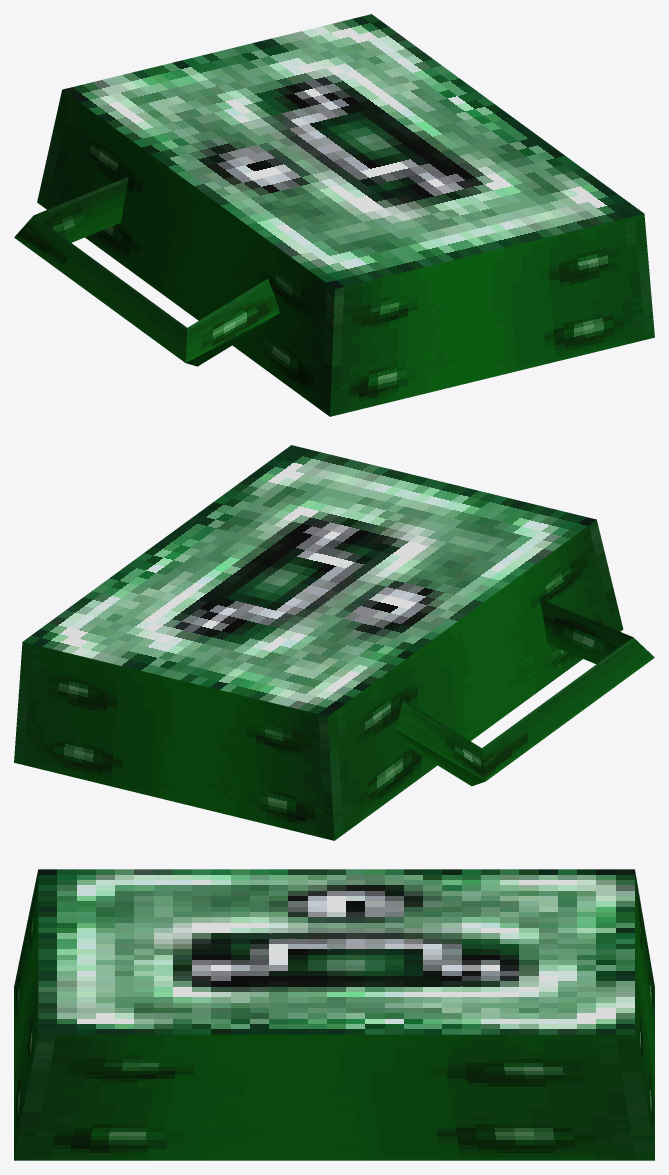
Rendered from handkassa_2734.glb.
3 views of the same model, one above another, from view 1: azimuth 30°, elevation 25°; view 2: azimuth 150°, elevation 25°; view 3: azimuth 270°, elevation 25° (orthographic). The views are drawn at different scales.
Parts seen in each view (by area): view 1: pPlaneShape7, pPlaneShape3, pPlaneShape6, pCylinderShape5; view 2: pPlaneShape7, pPlaneShape2, pPlaneShape6, pCylinderShape5; view 3: pPlaneShape7, pPlaneShape5, pPlaneShape3, pPlaneShape2.
Part boxes in pixels (<box>): pPlaneShape7: <box>62,14,643,288</box>; pPlaneShape3: <box>330,214,654,416</box>; pPlaneShape6: <box>37,90,334,416</box>; pCylinderShape5: <box>14,177,279,366</box>; pPlaneShape7: <box>23,445,596,716</box>; pPlaneShape2: <box>14,642,334,840</box>; pPlaneShape6: <box>328,519,623,840</box>; pCylinderShape5: <box>396,599,654,786</box>; pPlaneShape7: <box>38,869,634,1034</box>; pPlaneShape5: <box>14,1034,654,1160</box>; pPlaneShape3: <box>14,870,38,1159</box>; pPlaneShape2: <box>635,870,654,1159</box>.
Size of the model in its own units: 0.0357 by 0.00954 by 0.0438.
7 materials, 7 textured.
